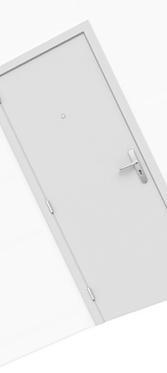door: (2, 23, 167, 325)
